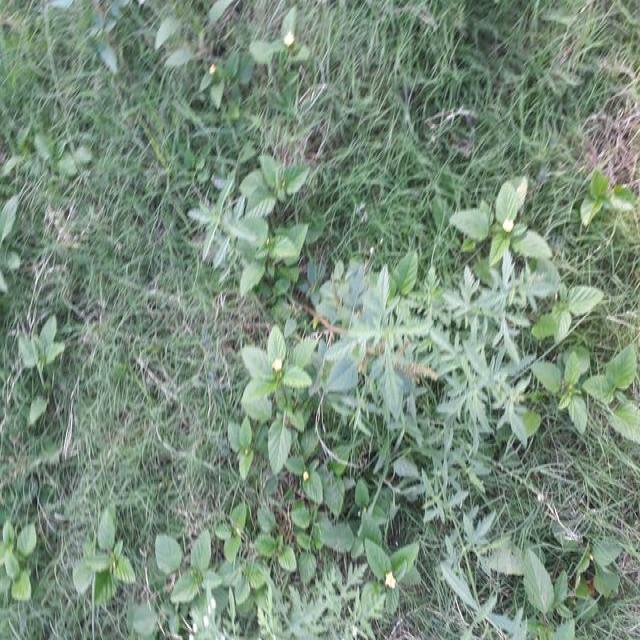weed: (0, 30, 283, 640), (296, 184, 640, 382)
